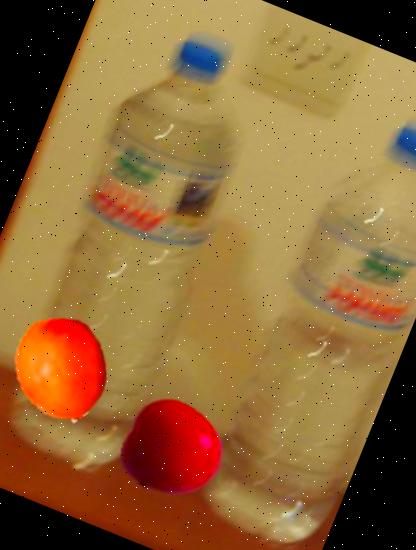Apricot: (0, 300, 129, 435)
Tomato: (107, 384, 238, 516)
